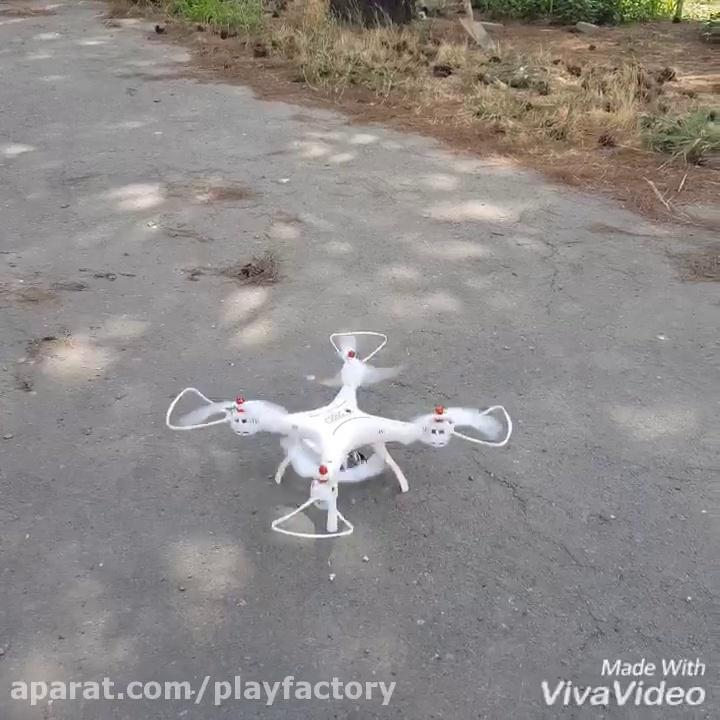drone: (162, 325, 516, 542)
